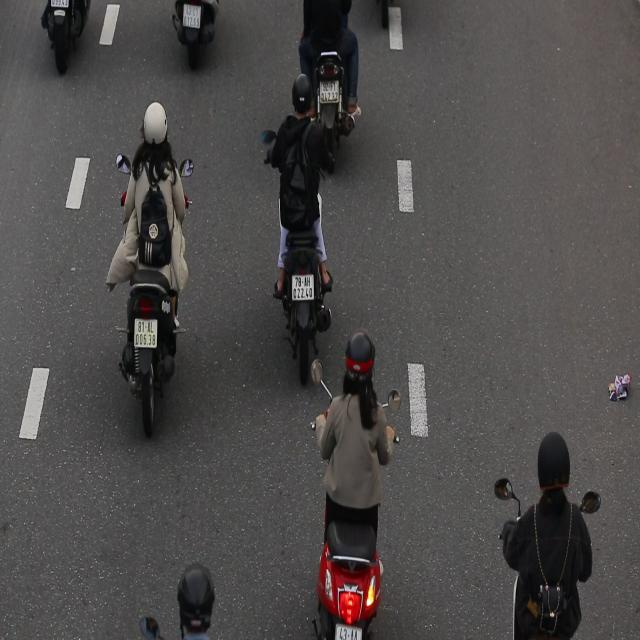motorbike: (115, 100, 195, 432), (263, 74, 338, 386)
